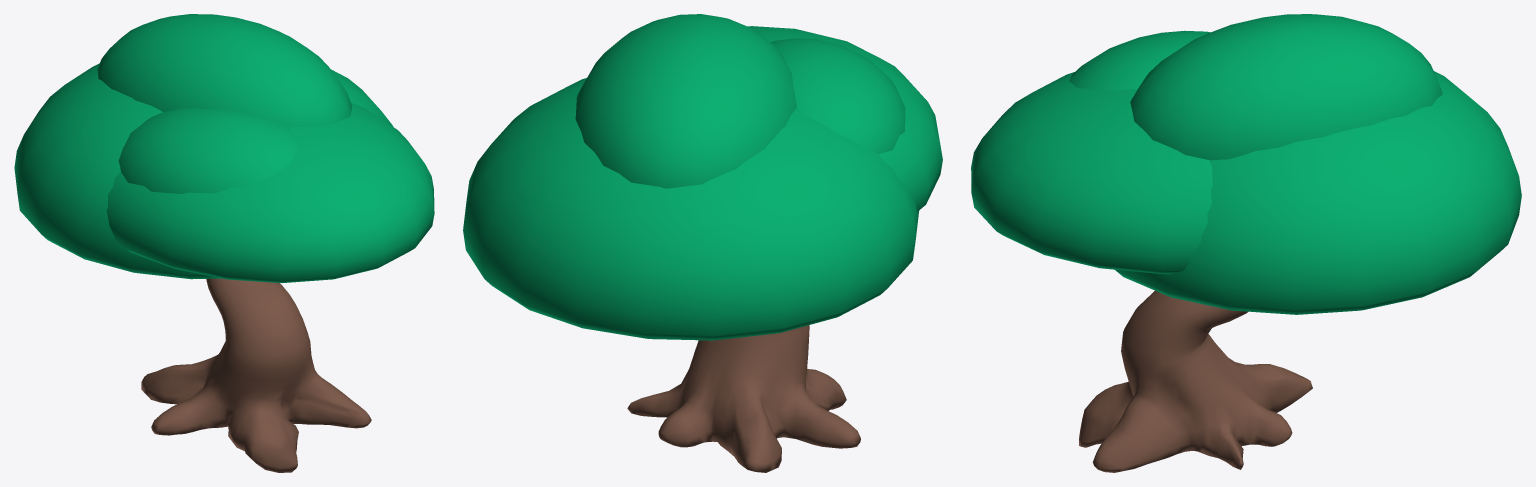
Rendered from Tree_Model.fbx.
3 views of the same model, side by side, from view 1: azimuth 30°, elevation 25°; view 2: azimuth 150°, elevation 25°; view 3: azimuth 270°, elevation 25° (orthographic). The views are drawn at different scales.
Parts seen in each view (by area): view 1: Leaves_GEO, Tree_GEO; view 2: Leaves_GEO, Tree_GEO; view 3: Leaves_GEO, Tree_GEO.
Part boxes in pixels (x1,y1,x2,y2): Leaves_GEO: [14, 14, 434, 282]; Tree_GEO: [141, 278, 371, 472]; Leaves_GEO: [463, 14, 942, 340]; Tree_GEO: [627, 325, 860, 472]; Leaves_GEO: [971, 14, 1521, 314]; Tree_GEO: [1079, 290, 1312, 472].
Size of the model in its own units: 35.33 by 36.97 by 42.92.
